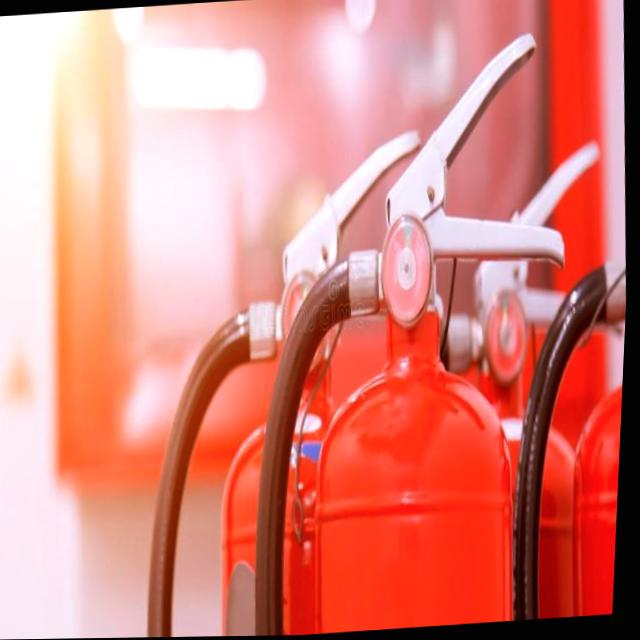FireExtinguisher: (226, 28, 604, 637), (120, 110, 480, 638)
